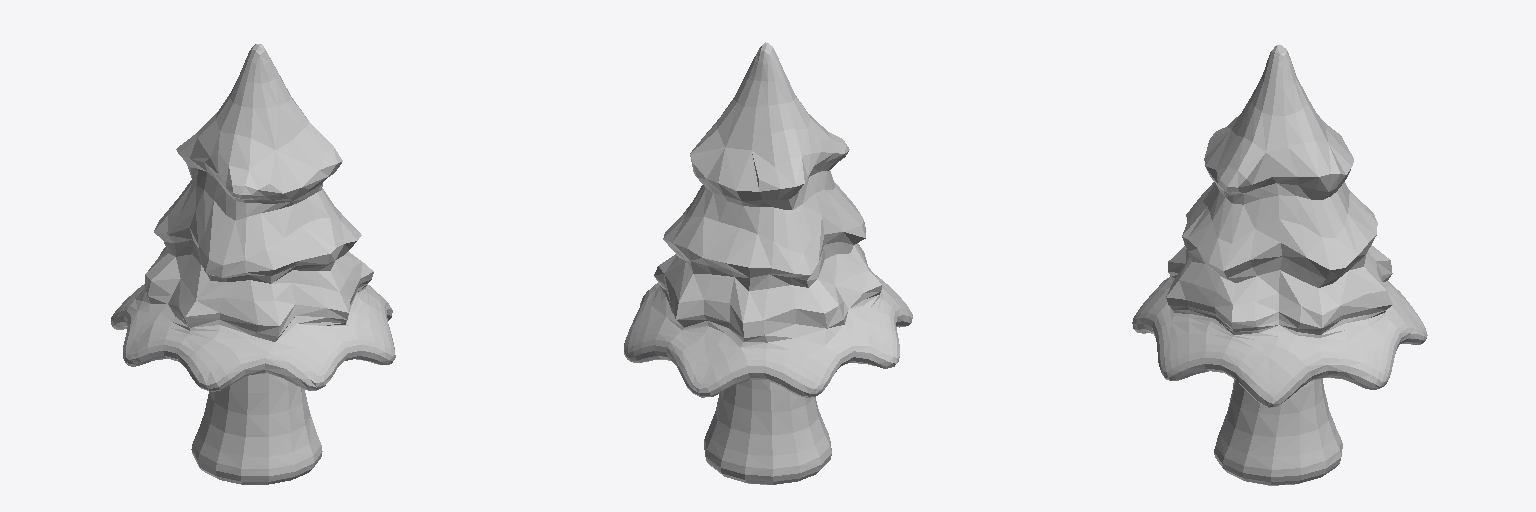
File: Pine-Tree-1.obj
The picture shows the model from 3 angles: view 1: azimuth 30°, elevation 25°; view 2: azimuth 150°, elevation 25°; view 3: azimuth 270°, elevation 25°; orthographic projection.
Visible parts, largest first — view 1: Group1, Group2; view 2: Group1, Group2; view 3: Group1, Group2.
Boxes of the visible parts, <box> form: Group1: <box>111,44,395,391</box>; Group2: <box>191,373,322,484</box>; Group1: <box>624,42,912,397</box>; Group2: <box>704,380,831,484</box>; Group1: <box>1132,45,1427,407</box>; Group2: <box>1214,378,1342,485</box>.
Size of the model in its own units: 0.751 by 1.17 by 0.7388.